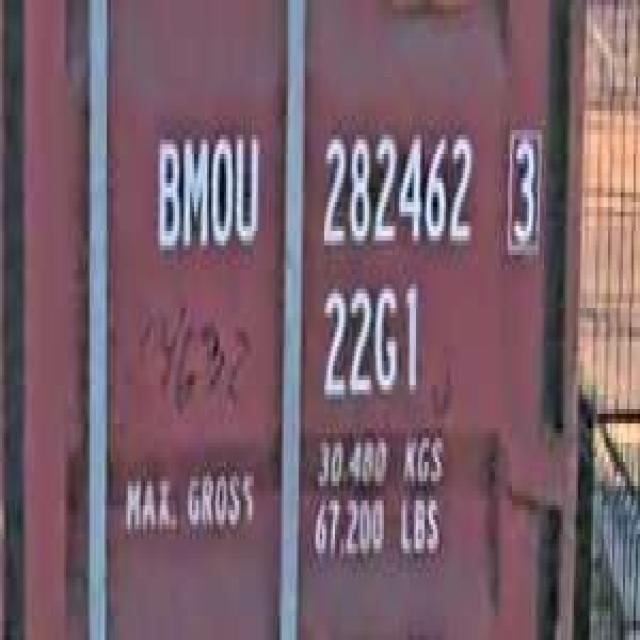dv: (499, 110, 546, 264)
owner: (152, 116, 264, 264)
serial: (313, 111, 478, 260)
size: (316, 269, 424, 409)
